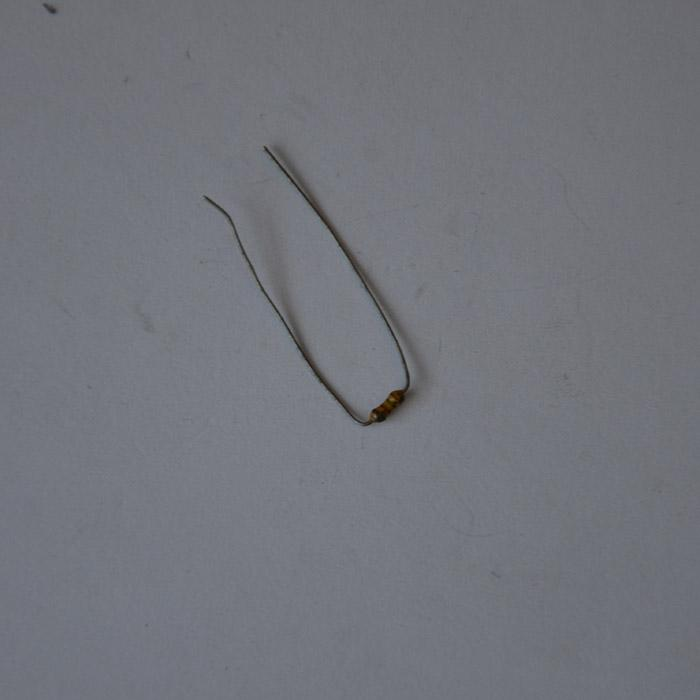resistor: (368, 387, 405, 426)
